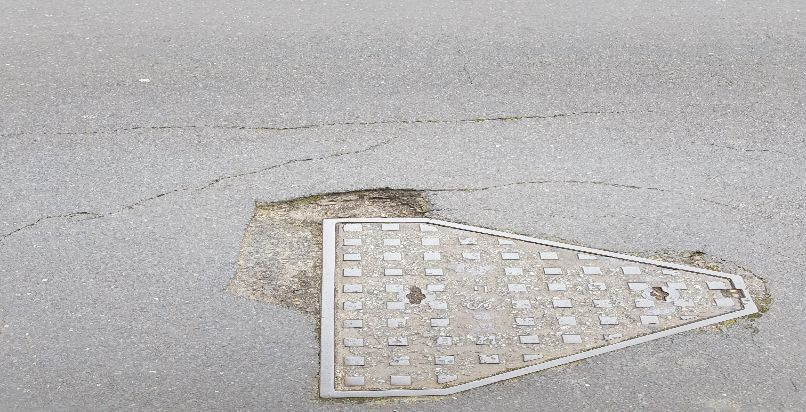pothole: (225, 182, 436, 319)
